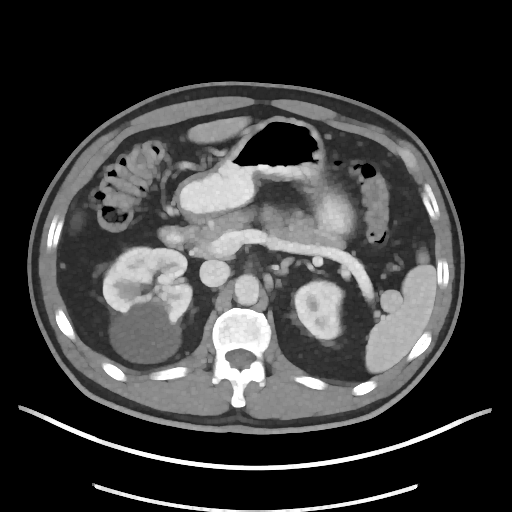Lesion: (107, 301, 186, 367)
